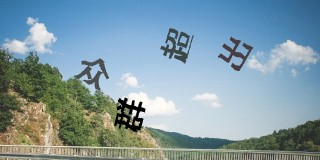众: (74, 57, 110, 91)
出: (217, 36, 254, 71)
群: (113, 97, 147, 132)
超: (160, 27, 194, 64)
